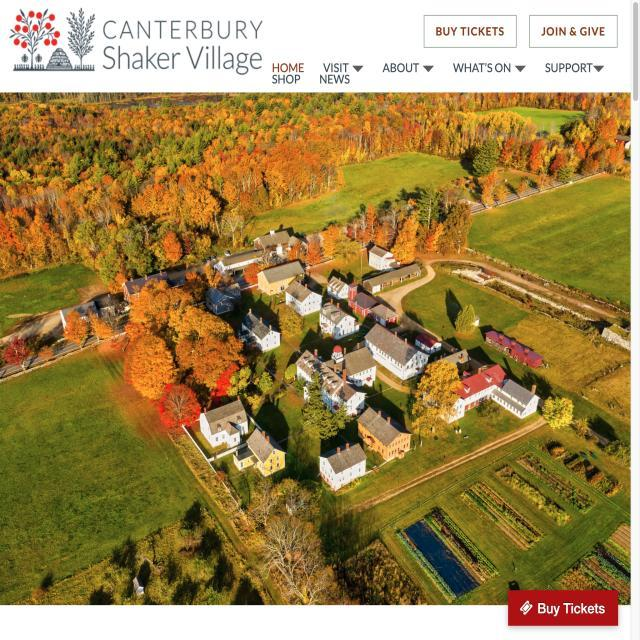button: (507, 588, 620, 628), (526, 10, 620, 50), (422, 12, 520, 50)
